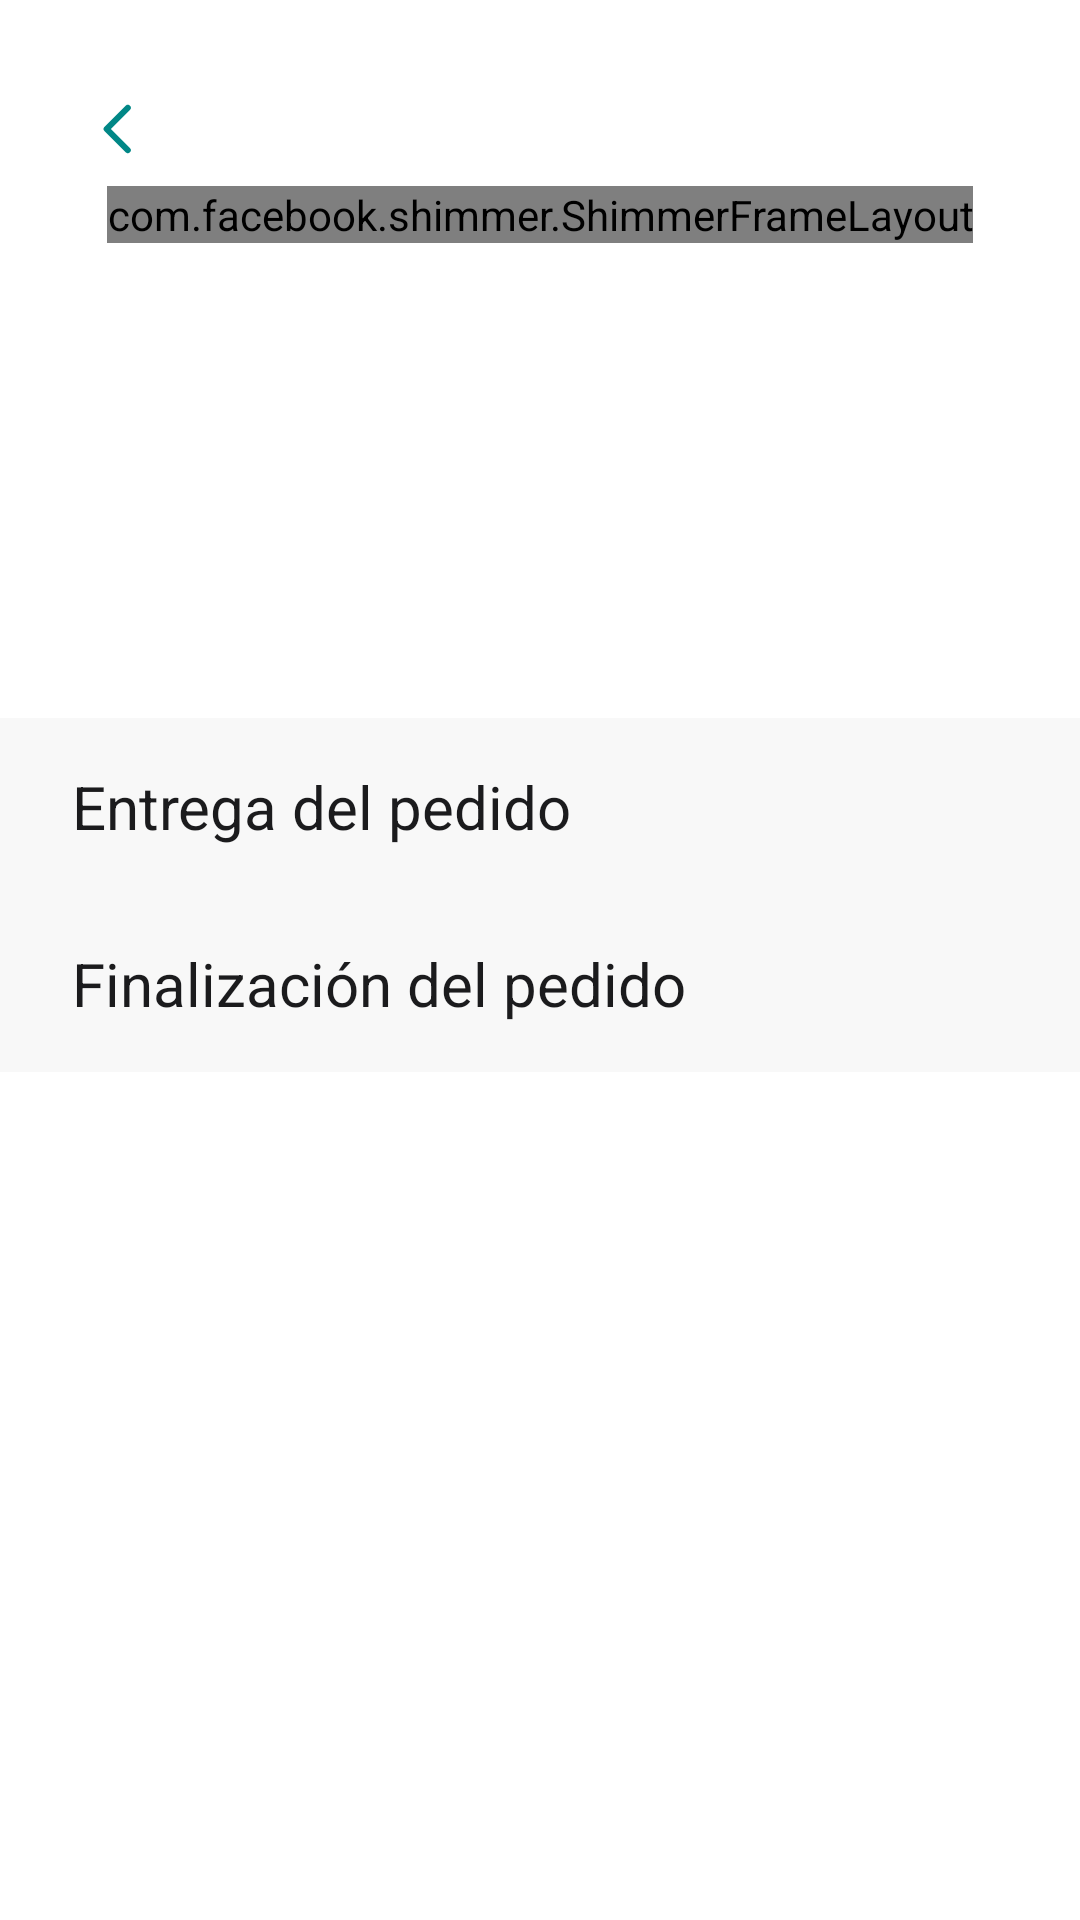

Locate icon controls on the screen. Image size 1080 × 1920, boxes as (x1, y1, x2, y2).
left: (103, 104, 131, 154)
